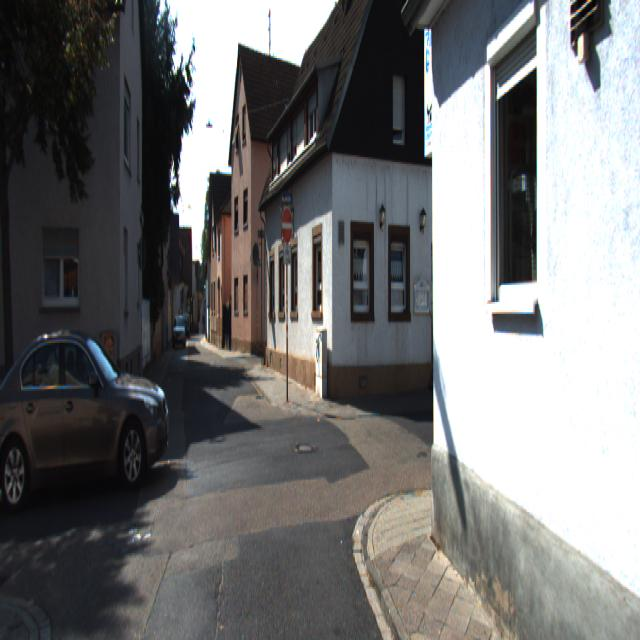Car: (0, 324, 173, 511)
DontCare: (171, 302, 191, 354)
